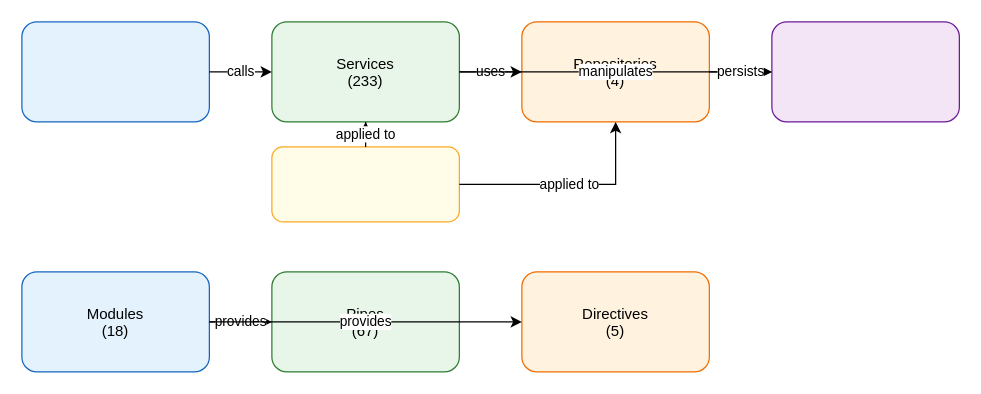
This 981x394 diagram has some shape labels left out. Each missing label, with the centre of its shape:
Controllers (24): the point at 115,71
Design Patterns (6): the point at 365,184
Entities (37): the point at 865,71
